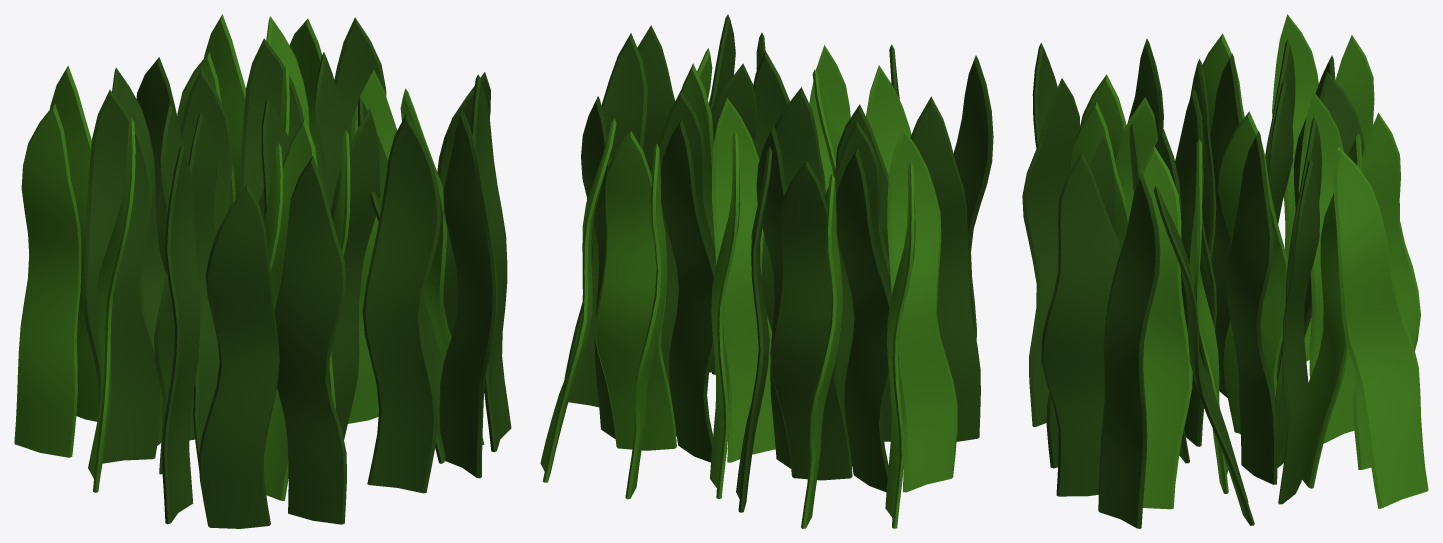
File: SM_Seaweed.fbx
The picture shows the model from 3 angles, left to right: view 1: azimuth 30°, elevation 25°; view 2: azimuth 150°, elevation 25°; view 3: azimuth 270°, elevation 25°; orthographic projection. The views are drawn at different scales.
Visible parts, largest first — view 1: polySurface90; view 2: polySurface90; view 3: polySurface90.
Part boxes in pixels (left/top/right/bottom): polySurface90: left=14, top=14, right=511, bottom=528; polySurface90: left=540, top=14, right=993, bottom=528; polySurface90: left=1022, top=14, right=1428, bottom=528.
Bounding box in the file's own units: 711 × 614 × 658.
Materials: 1 (1 with a texture image).
